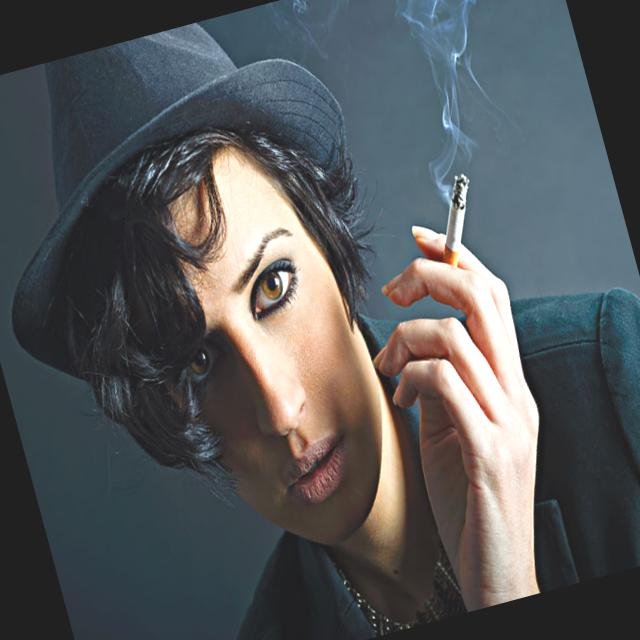smoke: (424, 160, 492, 267)
